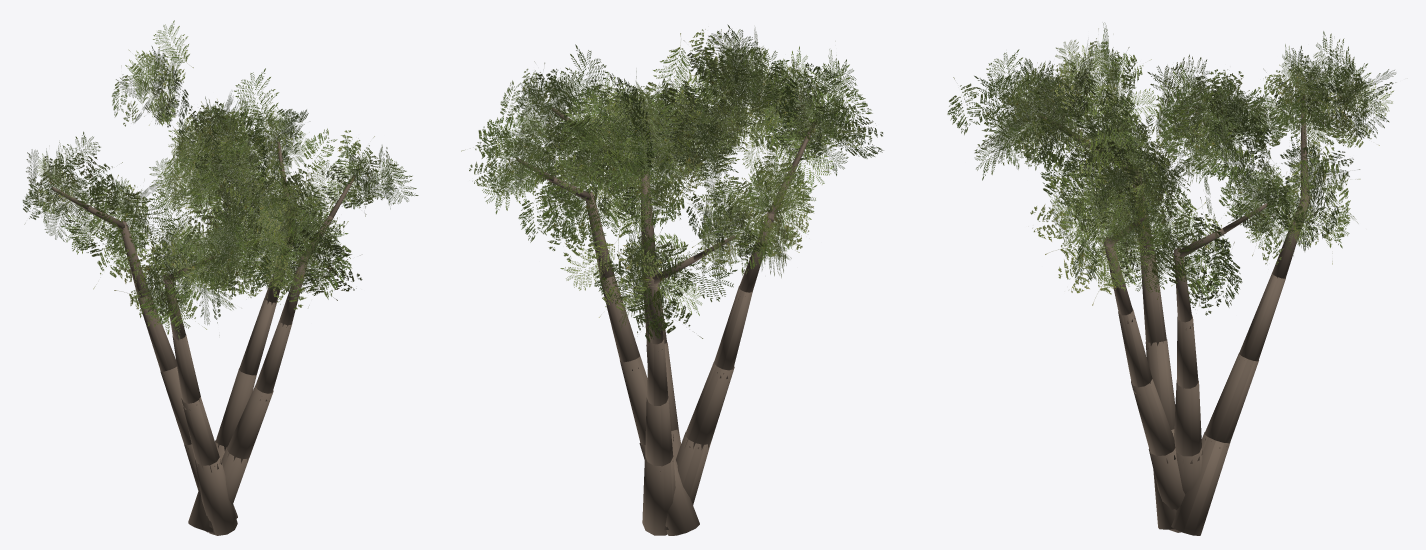
Rendered from tamarisk_2.glb.
3 renders of one model, left to right at view 1: azimuth 30°, elevation 25°; view 2: azimuth 150°, elevation 25°; view 3: azimuth 270°, elevation 25°, orthographic. The views are drawn at different scales.
Parts seen in each view (by area): view 1: tamarisk; view 2: tamarisk; view 3: tamarisk.
Boxes of the visible parts, x1,y1,x2,y2 form: tamarisk: (22,20,418,535); tamarisk: (461,24,883,535); tamarisk: (947,22,1395,535).
Size of the model in its own units: 4.67 by 6.12 by 5.28.
Materials: 2 (1 with a texture image).
